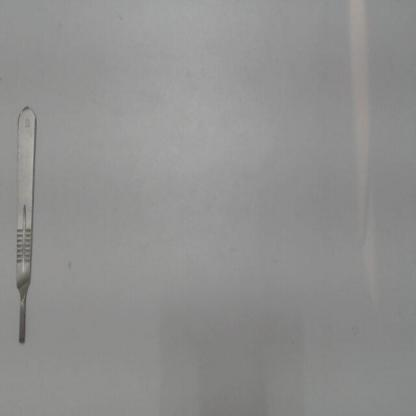No.4 BP Handle: (12, 96, 40, 356)
